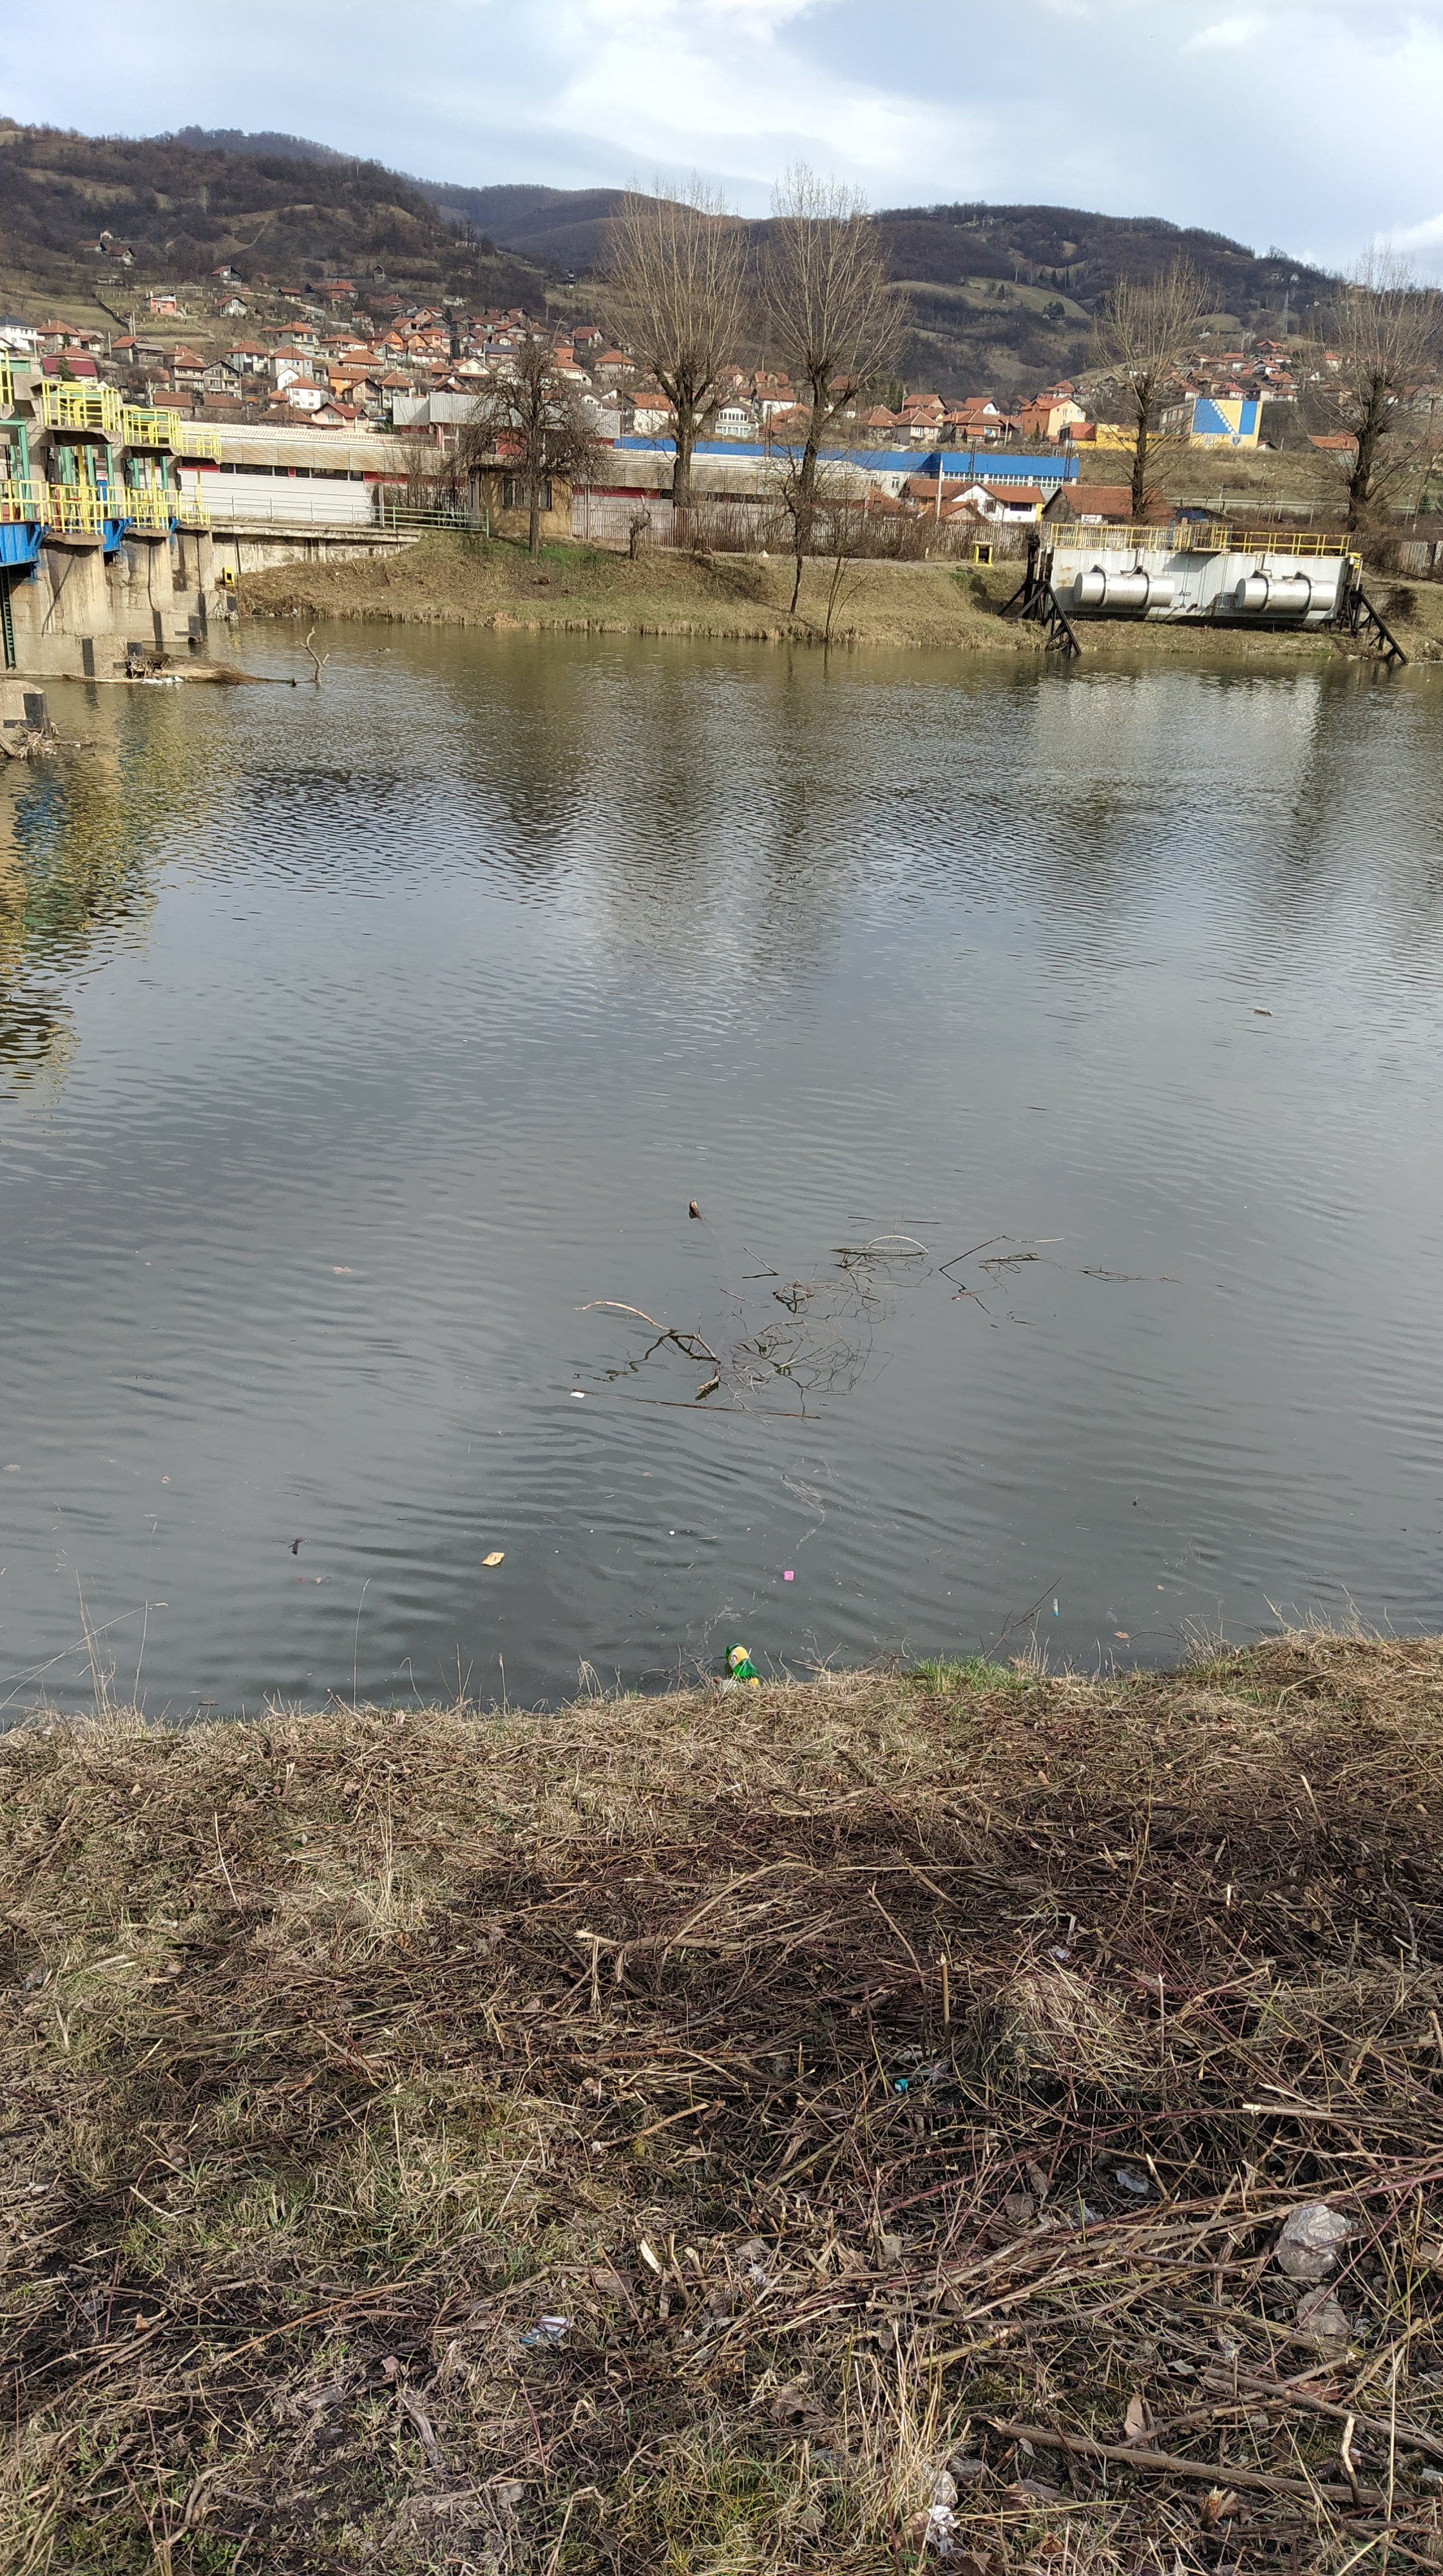Plastic Bottle: (726, 1642, 760, 1688), (714, 1675, 740, 1688), (1255, 1007, 1273, 1014), (621, 630, 627, 633)
